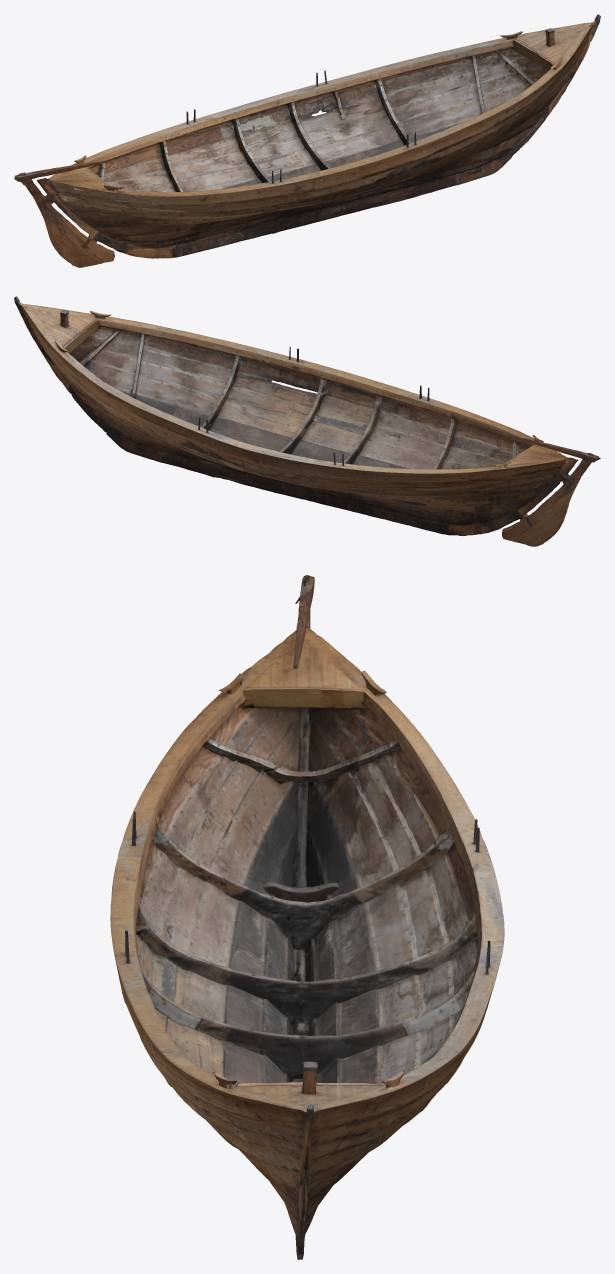
File: venus.glb
3 renders of one model, top to bottom at view 1: azimuth 30°, elevation 25°; view 2: azimuth 150°, elevation 25°; view 3: azimuth 270°, elevation 25°, orthographic. The views are drawn at different scales.
Parts seen in each view (by area): view 1: Venus50K_8KTx; view 2: Venus50K_8KTx; view 3: Venus50K_8KTx.
Part boxes in pixels (x1=…): Venus50K_8KTx: x1=14, y1=14, x2=600, y2=267; Venus50K_8KTx: x1=14, y1=296, x2=600, y2=546; Venus50K_8KTx: x1=110, y1=575, x2=504, y2=1259.
Bounding box in the file's own units: 5.4 × 1.2 × 1.57.
1 material, 1 textured.
